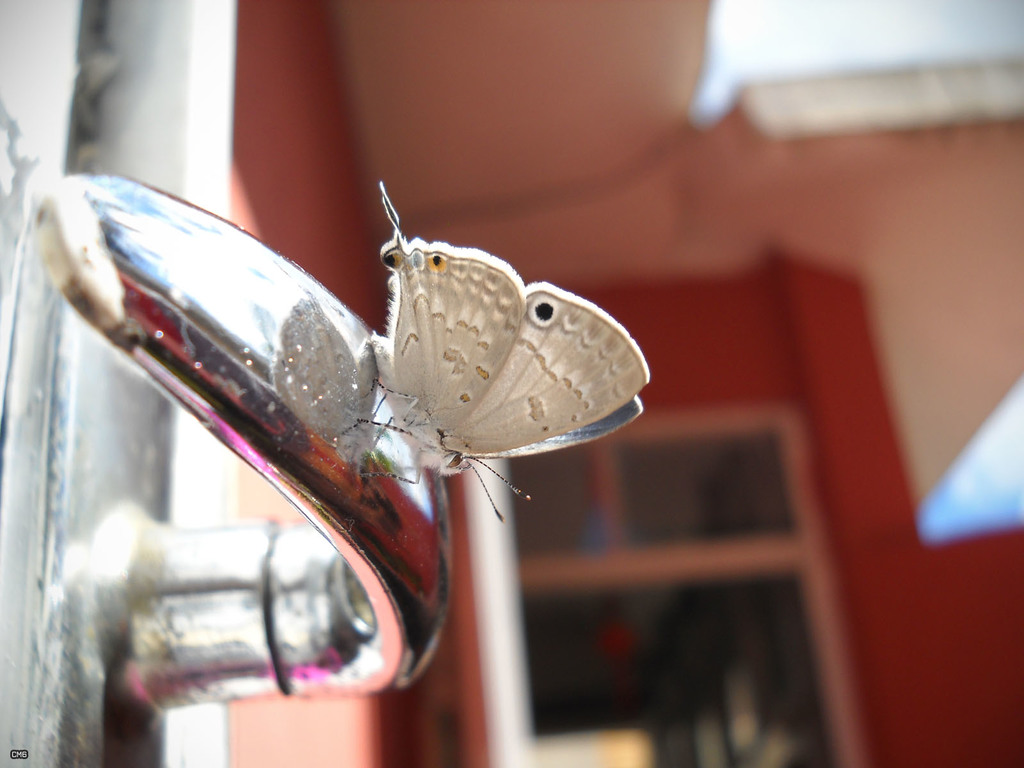Butterfly: (350, 199, 665, 509)
